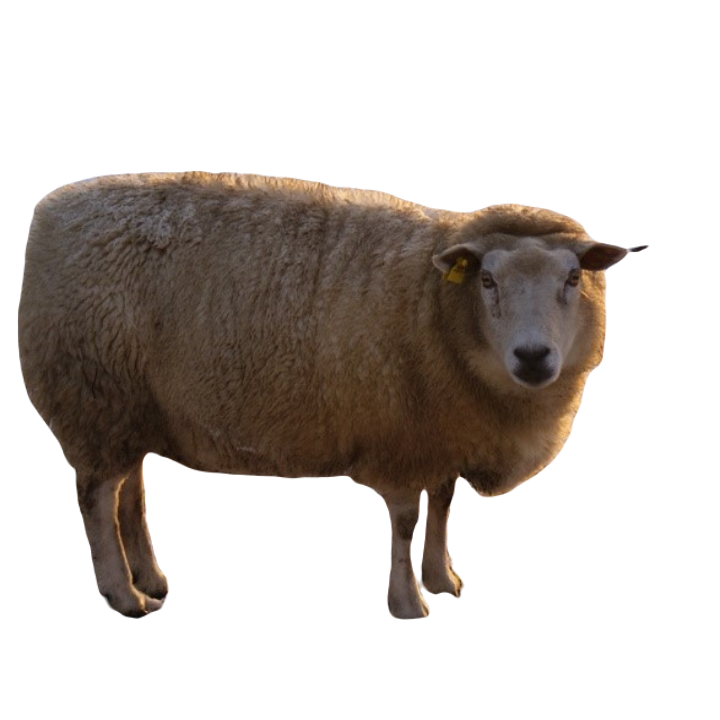Sheep: (14, 168, 629, 623)
